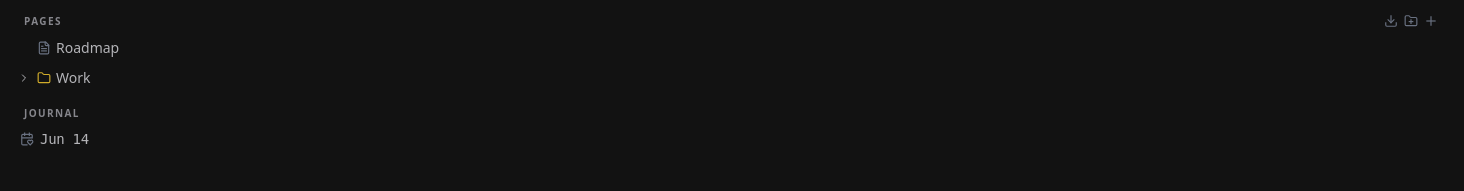
it: VaultTree › folders in the tree › expands to reveal what it holds
This screenshot has width=1464, height=191.
Expected: the text "Kickoff" is not shown
Click the 4th button at (24, 78), box left=16, top=70, right=32, bottom=86
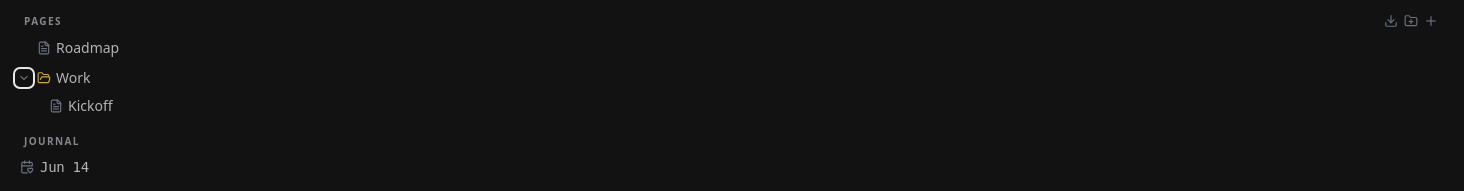
Now the text "Kickoff" is shown, box left=68, top=96, right=113, bottom=115
